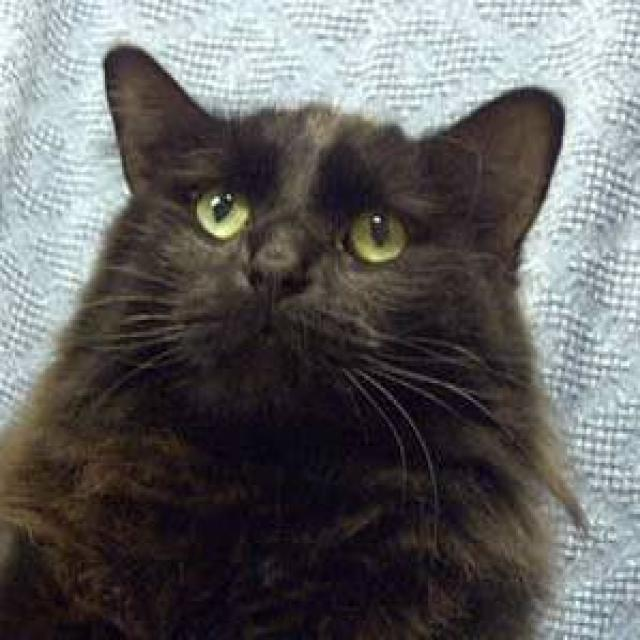cat: (0, 41, 589, 638)
